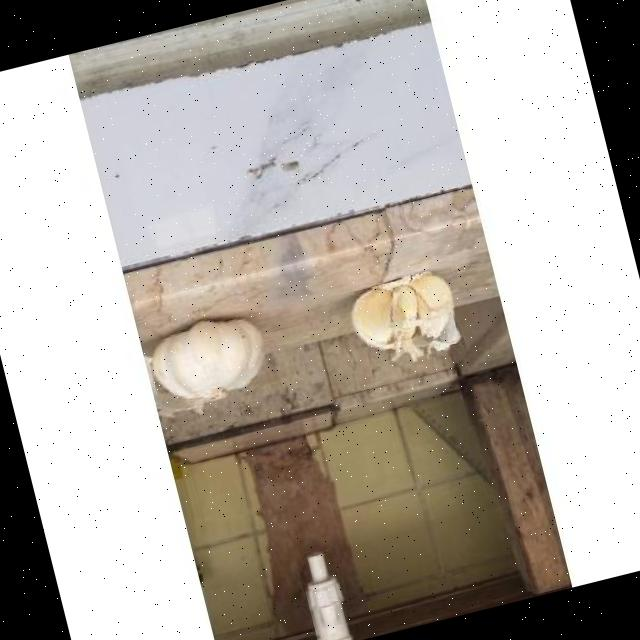garlic: (350, 270, 458, 360), (150, 318, 263, 399)
